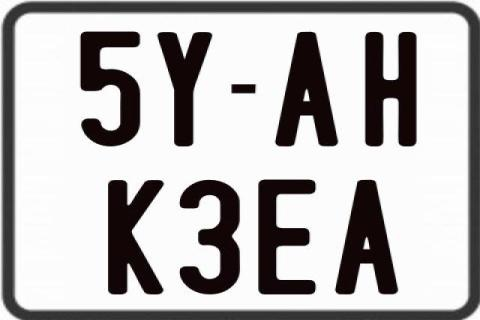0: (178, 179, 242, 299), (80, 29, 140, 149)
A: (334, 179, 404, 295), (275, 30, 339, 146)
E: (256, 178, 315, 294)
H: (365, 32, 417, 149)
K: (106, 180, 167, 299)
Y: (156, 32, 214, 146)
